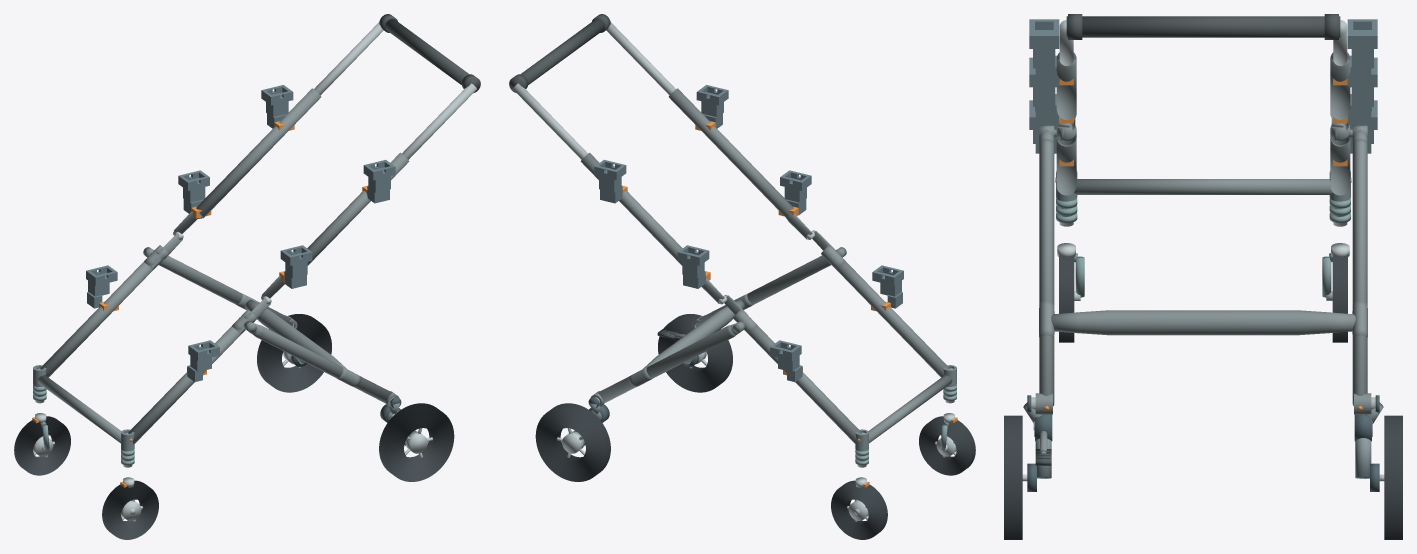
Rendered from w550_state1_wheel_S.glb.
3 renders of one model, left to right at view 1: azimuth 30°, elevation 25°; view 2: azimuth 150°, elevation 25°; view 3: azimuth 270°, elevation 25°, orthographic. The views are drawn at different scales.
Parts seen in each view (by area): view 1: RL_tire.002, RR_tire.002, FL_tire.002, main_upper_1.003, FR_tire.002, main_lower_1.003, V46_rear_leg_-1.003, main_lower_-1.003, round_handle.002, main_upper_-1.003, V46_rear_leg_1.003, V46_rearbar.003 (+9 smaller); view 2: RR_tire.002, RL_tire.002, FR_tire.002, main_upper_-1.003, FL_tire.002, main_lower_-1.003, V46_rear_leg_1.003, main_lower_1.003, round_handle.002, main_upper_1.003, V46_rear_leg_-1.003, V46_rearbar.003 (+9 smaller); view 3: V46_rearbar.003, round_handle.002, front_fixed_round_tube.002, V46_rear_leg_1.003, V46_rear_leg_-1.003, RL_tire.002, RR_tire.002, Universal_Cabin_Receiver_H_1, Universal_Cabin_Receiver_H_-1, FL_tire.002, FR_tire.002, Universal_Cabin_Receiver_M_1 (+10 smaller).
Boxes of the visible parts, bbox=[...] form: RL_tire.002: bbox=[379, 403, 454, 481]; RR_tire.002: bbox=[257, 314, 331, 392]; FL_tire.002: bbox=[102, 480, 158, 539]; main_upper_1.003: bbox=[196, 88, 320, 217]; FR_tire.002: bbox=[14, 416, 70, 475]; main_lower_1.003: bbox=[40, 258, 160, 377]; V46_rear_leg_-1.003: bbox=[253, 325, 391, 403]; main_lower_-1.003: bbox=[128, 326, 244, 444]; round_handle.002: bbox=[385, 19, 479, 91]; main_upper_-1.003: bbox=[307, 152, 409, 265]; V46_rear_leg_1.003: bbox=[159, 255, 293, 325]; V46_rearbar.003: bbox=[245, 299, 346, 368]; RR_tire.002: bbox=[535, 403, 610, 481]; RL_tire.002: bbox=[658, 314, 732, 392]; FR_tire.002: bbox=[831, 480, 887, 539]; main_upper_-1.003: bbox=[669, 88, 793, 217]; FL_tire.002: bbox=[919, 416, 975, 475]; main_lower_-1.003: bbox=[829, 258, 949, 377]; V46_rear_leg_1.003: bbox=[598, 325, 736, 403]; main_lower_1.003: bbox=[745, 326, 861, 444]; round_handle.002: bbox=[510, 19, 604, 91]; main_upper_1.003: bbox=[580, 152, 682, 265]; V46_rear_leg_-1.003: bbox=[696, 255, 830, 325]; V46_rearbar.003: bbox=[643, 299, 744, 368]; V46_rearbar.003: bbox=[1051, 310, 1355, 335]; round_handle.002: bbox=[1066, 16, 1340, 37]; front_fixed_round_tube.002: bbox=[1074, 179, 1332, 194]; V46_rear_leg_1.003: bbox=[1352, 138, 1367, 406]; V46_rear_leg_-1.003: bbox=[1039, 138, 1054, 406]; RL_tire.002: bbox=[1004, 415, 1022, 539]; RR_tire.002: bbox=[1384, 415, 1402, 539]; Universal_Cabin_Receiver_H_1: bbox=[1347, 19, 1377, 85]; Universal_Cabin_Receiver_H_-1: bbox=[1029, 19, 1059, 85]; FL_tire.002: bbox=[1059, 255, 1074, 342]; FR_tire.002: bbox=[1332, 255, 1347, 342]; Universal_Cabin_Receiver_M_1: bbox=[1348, 57, 1377, 124].
Bounding box in the file's own units: 1.09 × 1.04 × 0.641.
